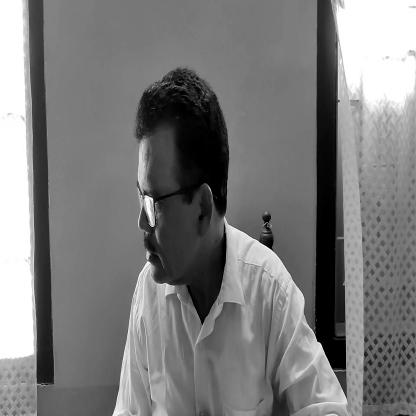Distracted: (130, 66, 225, 302)
